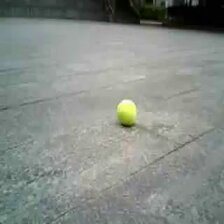tennis: (117, 100, 138, 124)
